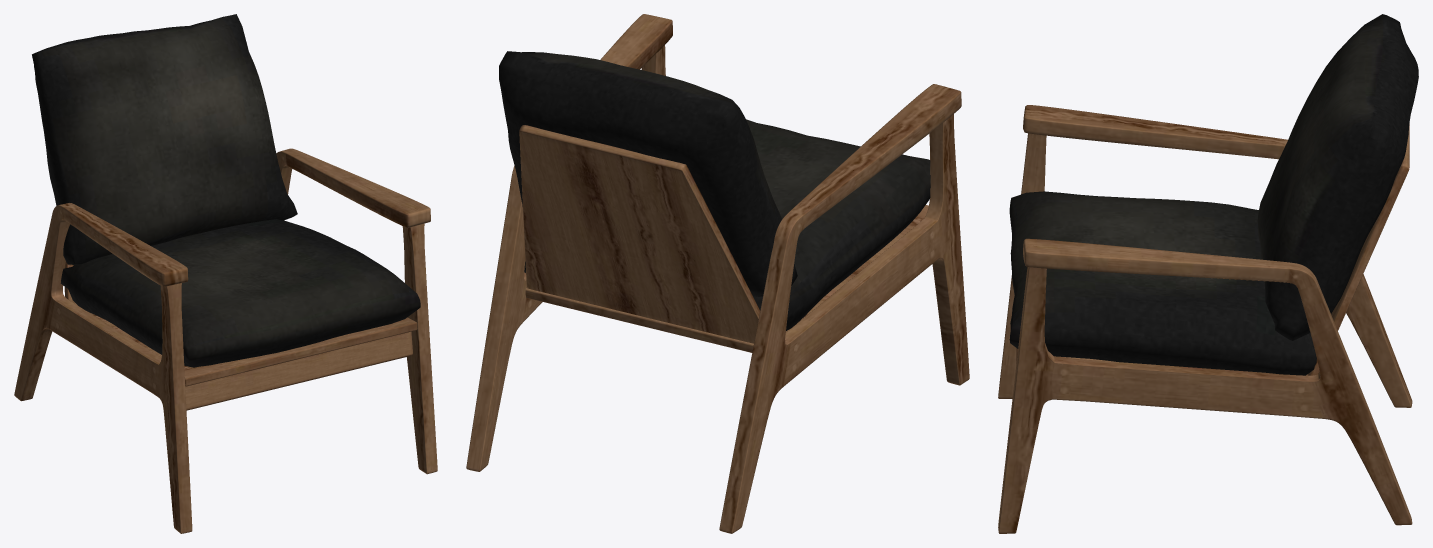
The model's file is armchair.glb.
3 views of the same model, side by side, from view 1: azimuth 30°, elevation 25°; view 2: azimuth 150°, elevation 25°; view 3: azimuth 270°, elevation 25° (orthographic). The views are drawn at different scales.
Parts seen in each view (by area): view 1: modern_arm_chair_01; view 2: modern_arm_chair_01; view 3: modern_arm_chair_01.
Boxes of the visible parts, box(x1,y1,x2,y2) form: modern_arm_chair_01: box(14, 14, 437, 533); modern_arm_chair_01: box(466, 14, 969, 533); modern_arm_chair_01: box(998, 14, 1418, 533).
Size of the model in its own units: 0.8203 by 1.02 by 0.9866.
2 materials, 2 textured.
